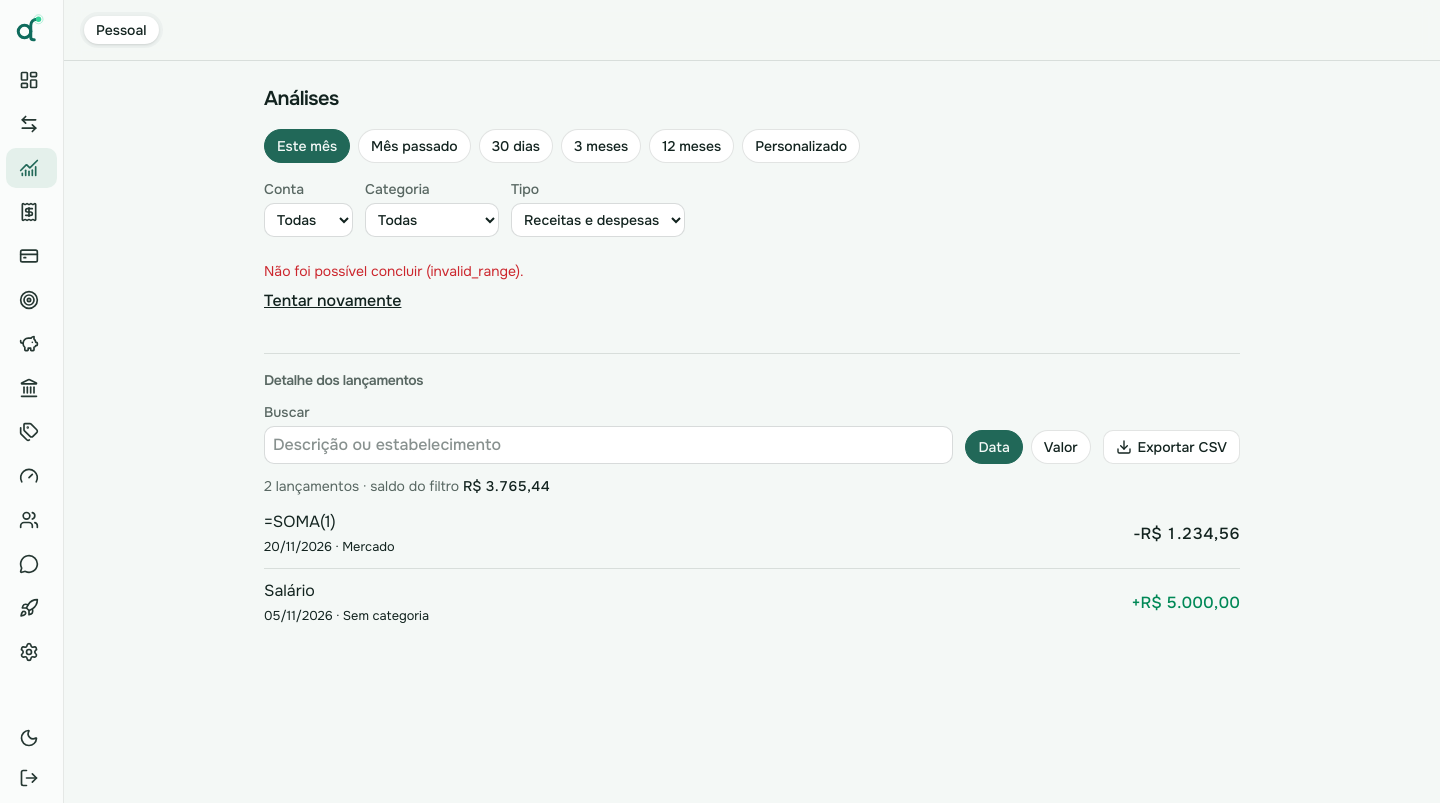
Test: estado de erro com tentar novamente
Expected: the message "Não foi possível concluir (invalid_range)." is shown, [264, 262, 524, 280]
Click the button "Tentar novamente" at (333, 301), box [264, 289, 401, 313]
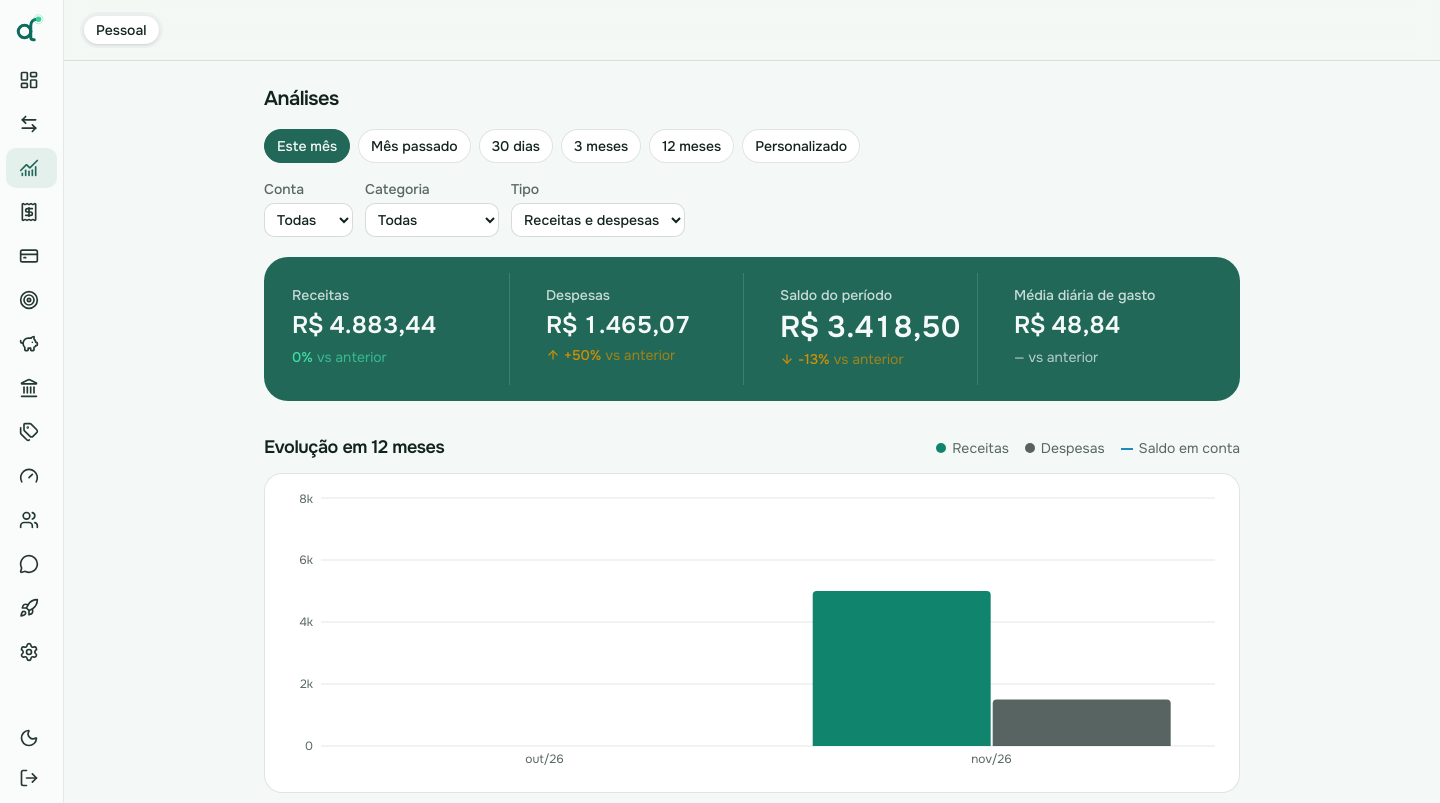
Expected: the heading "Evolução em 12 meses" is shown, [264, 433, 444, 461]
